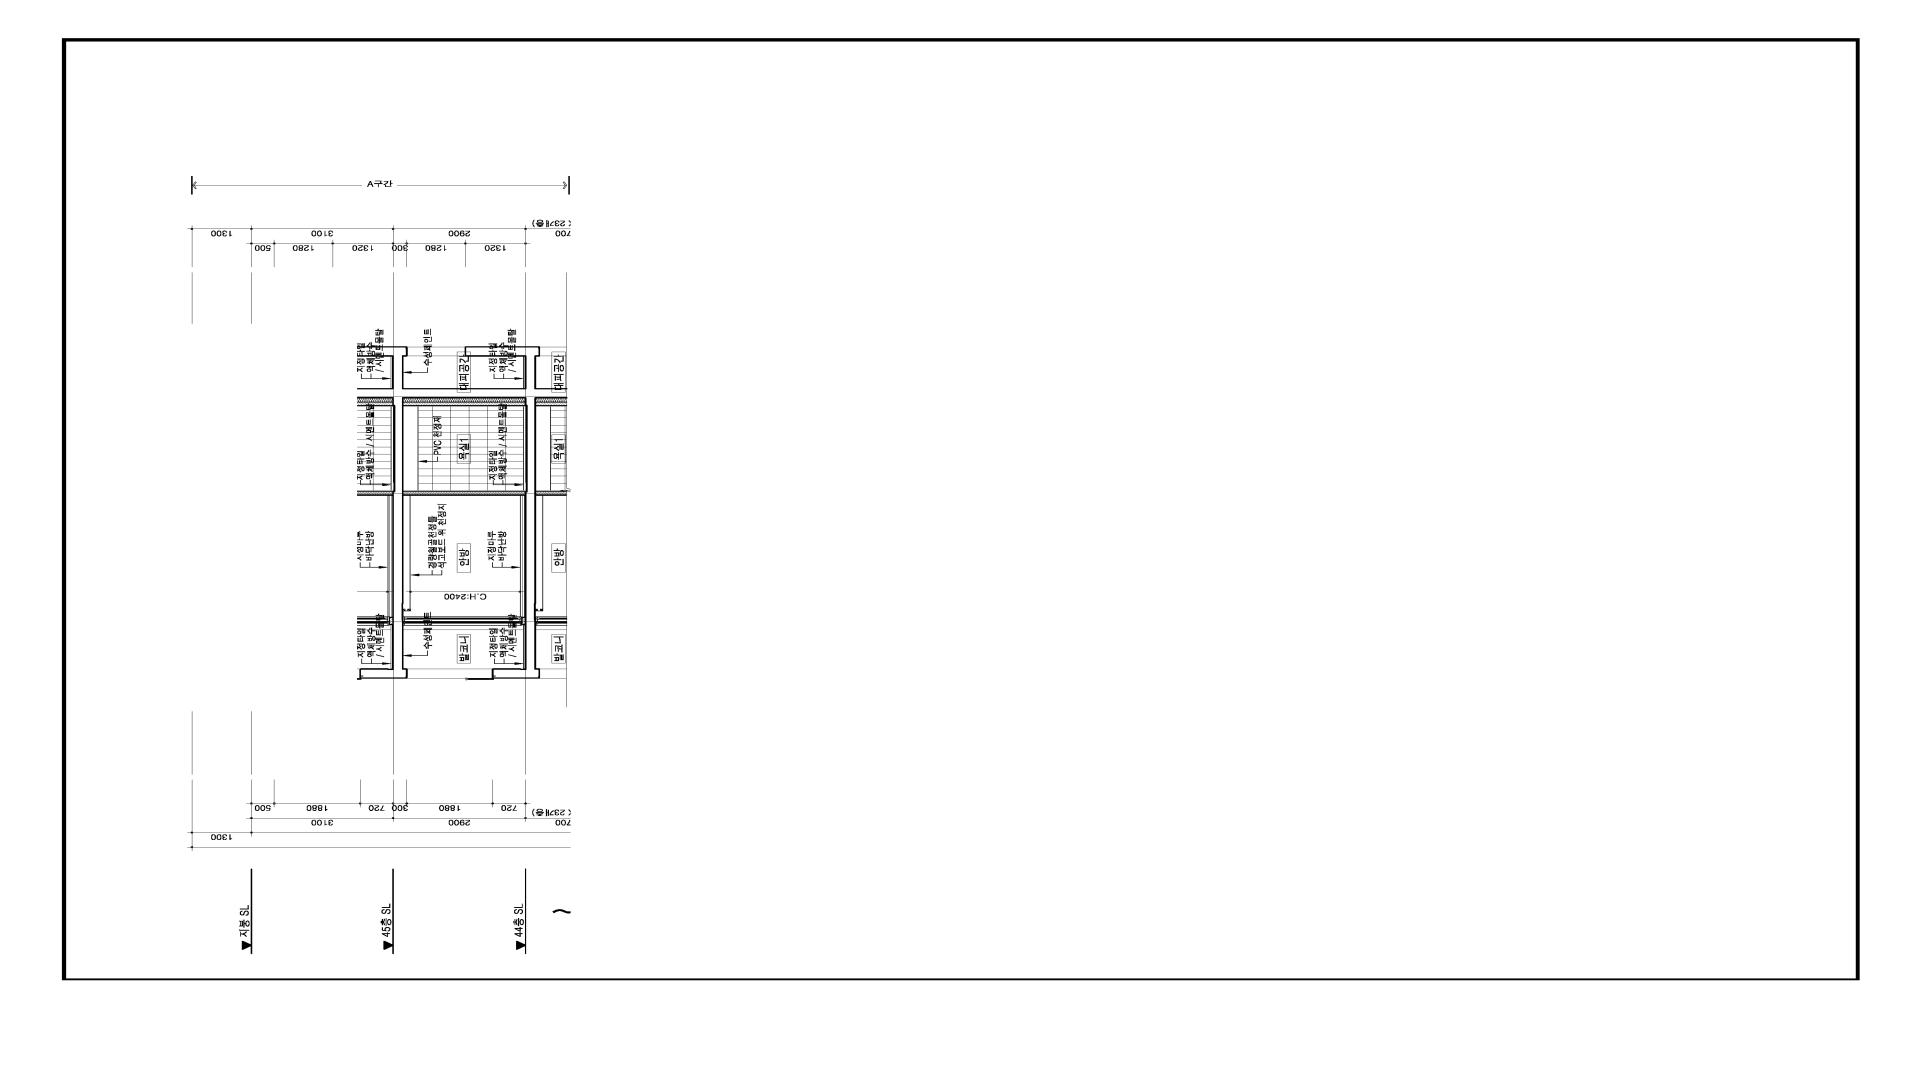wall: (392, 345, 525, 679), (464, 347, 537, 679), (407, 669, 492, 679), (404, 401, 525, 406), (407, 347, 464, 356), (404, 492, 525, 496), (522, 617, 525, 625)
window: (402, 617, 525, 630)
